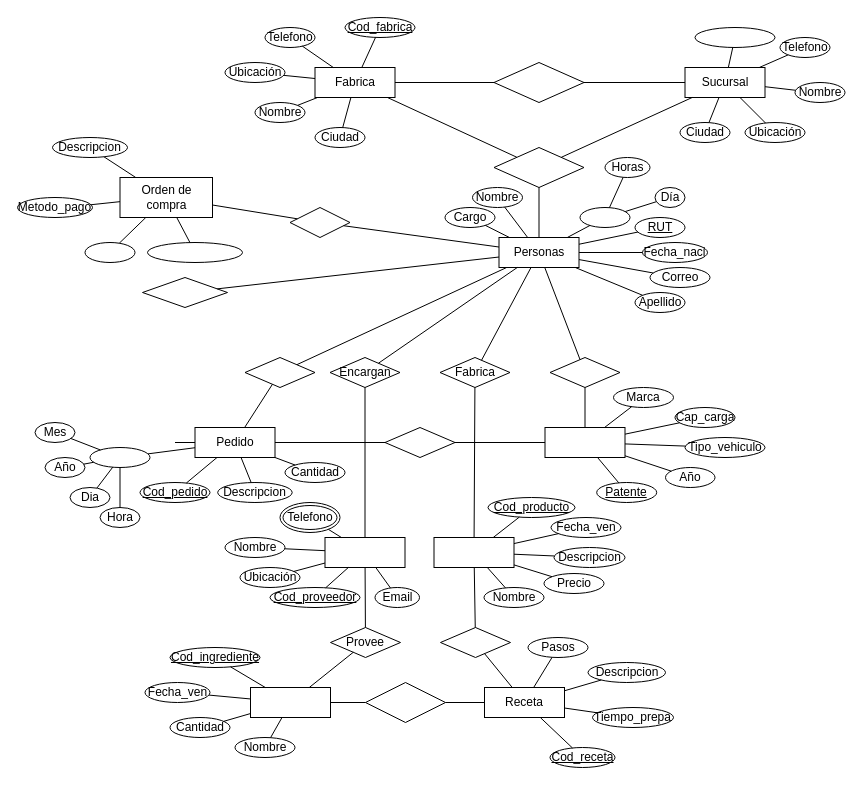
This 863x785 diagram has some shape labels left out. The shapes that lost their labels are listed below. From the top down, each one's box as (x1, y1, x2, y2) in pixels, then its label:
(694, 26, 775, 48): Cod_sucursal
(493, 62, 584, 102): Abastece
(493, 146, 584, 188): Trabajan
(289, 206, 350, 238): Paga
(579, 206, 630, 228): Jornada
(84, 242, 135, 262): Monto
(146, 242, 242, 262): Cod_transacción
(142, 276, 228, 308): Confecciona
(244, 356, 315, 388): Realizan
(549, 356, 620, 388): Conduce
(89, 446, 150, 468): Fecha
(384, 426, 455, 458): Reparte
(544, 426, 625, 458): Vehiculo
(324, 536, 405, 568): Proveedor
(433, 536, 514, 568): Producto
(440, 626, 510, 658): Contiene
(250, 686, 330, 718): Ingrediente
(364, 682, 446, 722): Se compone
